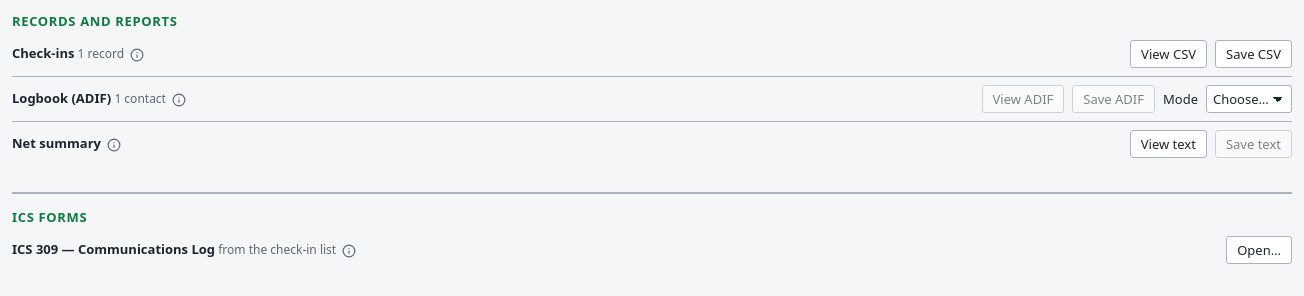
Test: ExportOptions › lists only what has something in it, saying what each holds behind its ⓘ
Expected: the text "1 record" is shown, [74,45,124,62]
Expected: the text "Net summary" is shown, [12,134,101,152]
Click the button named "About Check-ins" at (137, 55), box [128,46,146,64]
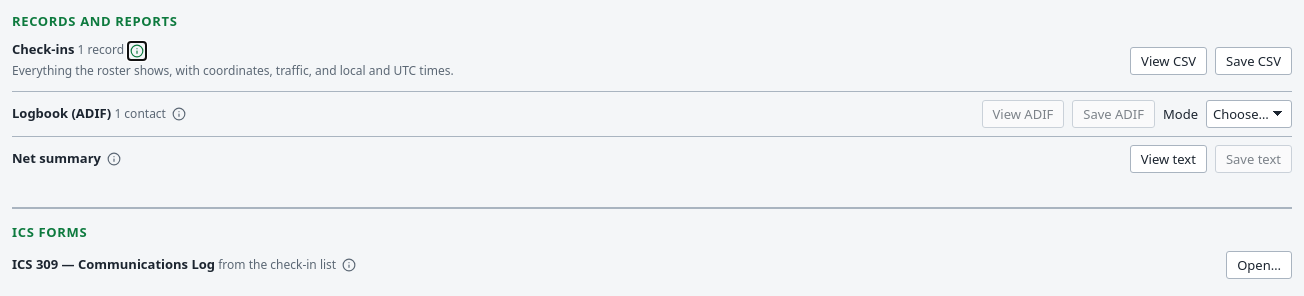
Expected: the button named "About Check-ins" is expanded, [128,42,146,60]
Expected: the text "Everything the roster shows" is shown, [12,62,454,78]
